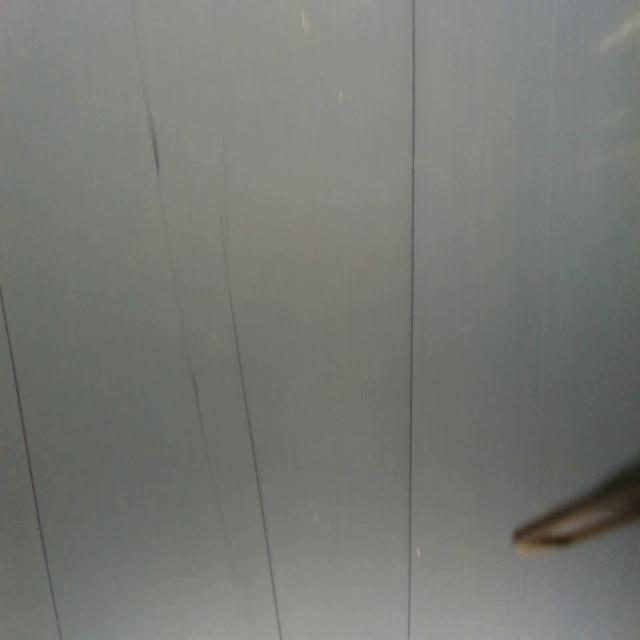hole: (338, 87, 346, 107), (414, 544, 422, 562)
